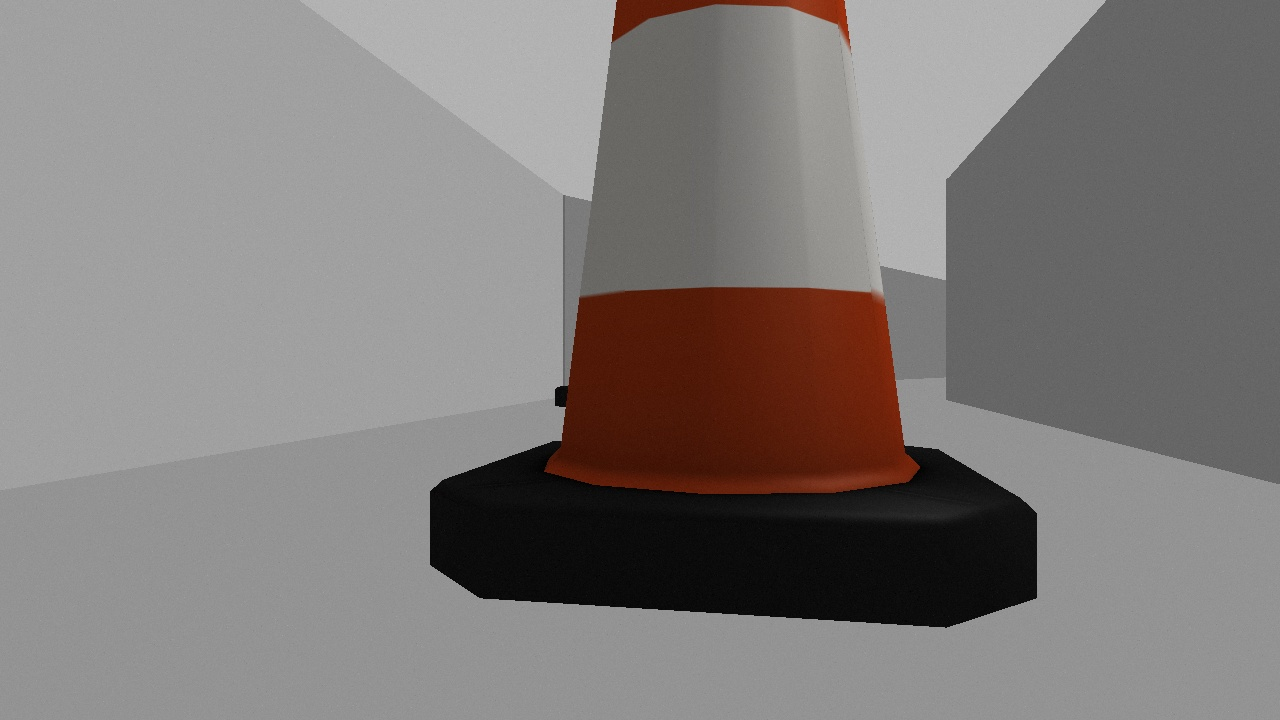barricade: (428, 1, 1039, 629)
